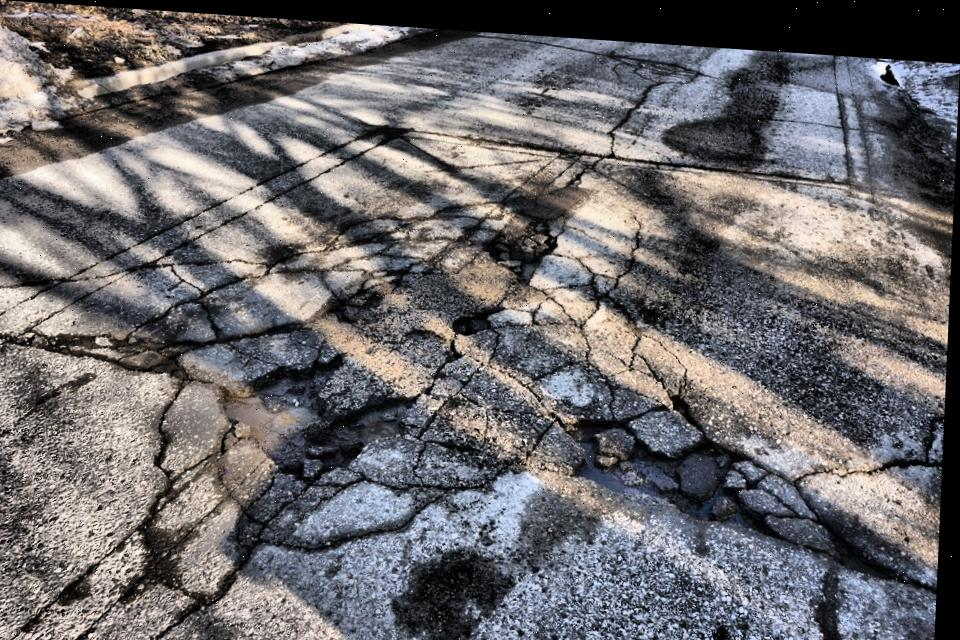pothole: (212, 351, 385, 485), (569, 396, 746, 525)
